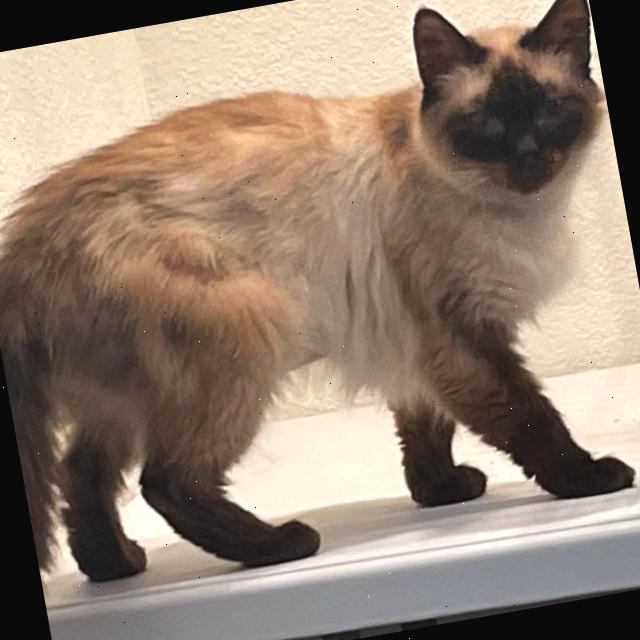siamese_cat: (382, 0, 622, 227)
